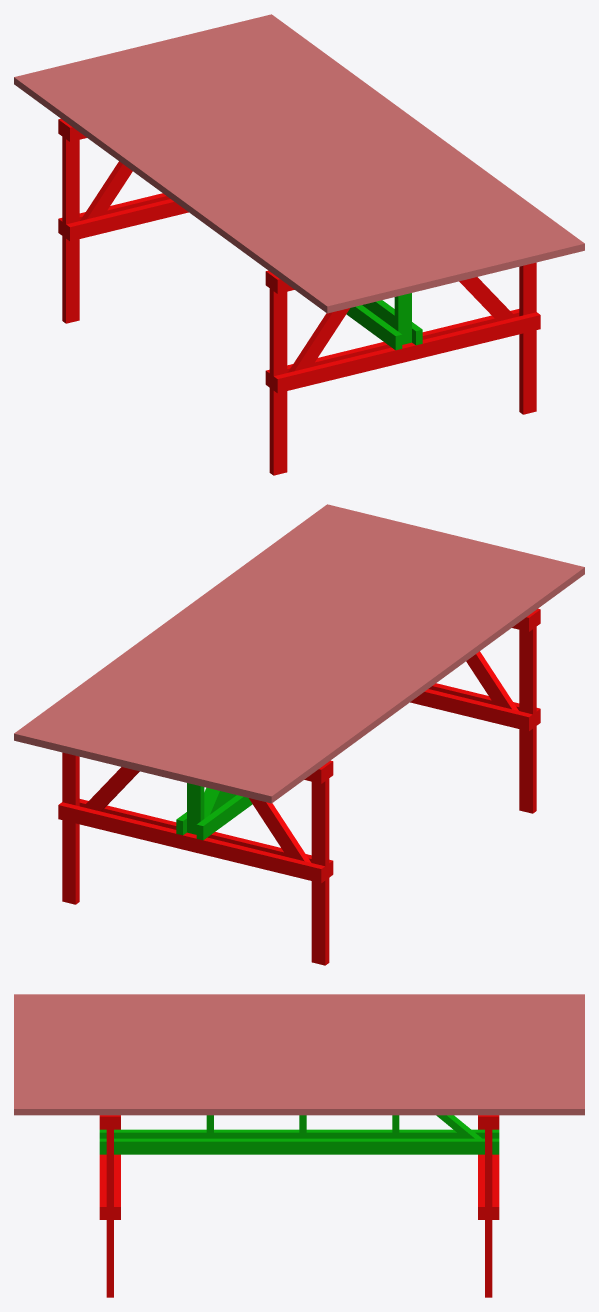
The model's file is result.glb.
3 renders of one model, top to bottom at view 1: azimuth 30°, elevation 25°; view 2: azimuth 150°, elevation 25°; view 3: azimuth 270°, elevation 25°, orthographic. The views are drawn at different scales.
Parts seen in each view (by area): view 1: bbeebcdb-3f99-4f77-a2e8-787a77a91db6__Box, 0190b465-db83-48fe-b081-cd7dd6bc8129__sideH, 17f43c25-3e92-4c97-a3d7-34431800e50e__undefined, eb93753c-3666-424e-9c48-84b49d938c41__undefined, 9918e297-45bd-4d35-bc97-5c7b0de80641__undefined, 8f650e66-f8c0-4959-ba8b-08832bbb4f13__undefined, 80cd1f90-98d9-486e-9dc5-4ccc9a084816__undefined, be0ad522-ab4a-45b4-905d-daea3207aa7a__undefined, 72e2a881-255c-4b75-9339-fb54a68d081b__undefined, 5dd81414-1a7c-413a-a173-5de8c82a652f__undefined, 8de55c55-ea86-44e3-8557-110cdc30ec31__undefined, 3e68c703-418c-4df8-b561-d40683dcc5c5__undefined (+20 smaller); view 2: bbeebcdb-3f99-4f77-a2e8-787a77a91db6__Box, 97f69e78-cade-4e16-83b8-556e15c2c198__undefined, 17f43c25-3e92-4c97-a3d7-34431800e50e__undefined, eb93753c-3666-424e-9c48-84b49d938c41__undefined, 9918e297-45bd-4d35-bc97-5c7b0de80641__undefined, 8f650e66-f8c0-4959-ba8b-08832bbb4f13__undefined, 80cd1f90-98d9-486e-9dc5-4ccc9a084816__undefined, be0ad522-ab4a-45b4-905d-daea3207aa7a__undefined, 72e2a881-255c-4b75-9339-fb54a68d081b__undefined, 5dd81414-1a7c-413a-a173-5de8c82a652f__undefined, 8de55c55-ea86-44e3-8557-110cdc30ec31__undefined, 3e68c703-418c-4df8-b561-d40683dcc5c5__undefined (+19 smaller); view 3: 8de55c55-ea86-44e3-8557-110cdc30ec31__undefined, 4a3bb054-5768-4474-8617-3f6093ff9265__strutH, bbeebcdb-3f99-4f77-a2e8-787a77a91db6__Box, eb93753c-3666-424e-9c48-84b49d938c41__undefined, be0ad522-ab4a-45b4-905d-daea3207aa7a__undefined, 5dd81414-1a7c-413a-a173-5de8c82a652f__undefined, 4d290f22-6d22-46f4-8384-eaff4370294b__undefined, deeef4f9-0dc2-4d78-b79e-73e6e580fd66__undefined, 8f650e66-f8c0-4959-ba8b-08832bbb4f13__undefined, ecaa860b-66aa-4944-8539-1d36b5fe38af__undefined, 9918e297-45bd-4d35-bc97-5c7b0de80641__undefined, 3e68c703-418c-4df8-b561-d40683dcc5c5__undefined (+16 smaller).
Part boxes in pixels (x1,y1,x2,y2): bbeebcdb-3f99-4f77-a2e8-787a77a91db6__Box: (14, 74, 340, 313); 0190b465-db83-48fe-b081-cd7dd6bc8129__sideH: (273, 312, 540, 393); 17f43c25-3e92-4c97-a3d7-34431800e50e__undefined: (218, 24, 544, 263); eb93753c-3666-424e-9c48-84b49d938c41__undefined: (28, 70, 354, 309); 9918e297-45bd-4d35-bc97-5c7b0de80641__undefined: (123, 47, 449, 286); 8f650e66-f8c0-4959-ba8b-08832bbb4f13__undefined: (96, 54, 422, 293); 80cd1f90-98d9-486e-9dc5-4ccc9a084816__undefined: (190, 31, 517, 270); be0ad522-ab4a-45b4-905d-daea3207aa7a__undefined: (41, 67, 367, 306); 72e2a881-255c-4b75-9339-fb54a68d081b__undefined: (204, 27, 530, 266); 5dd81414-1a7c-413a-a173-5de8c82a652f__undefined: (55, 64, 381, 303); 8de55c55-ea86-44e3-8557-110cdc30ec31__undefined: (258, 14, 584, 253); 3e68c703-418c-4df8-b561-d40683dcc5c5__undefined: (136, 44, 462, 283); bbeebcdb-3f99-4f77-a2e8-787a77a91db6__Box: (258, 564, 584, 803); 97f69e78-cade-4e16-83b8-556e15c2c198__undefined: (58, 802, 325, 883); 17f43c25-3e92-4c97-a3d7-34431800e50e__undefined: (54, 514, 380, 753); eb93753c-3666-424e-9c48-84b49d938c41__undefined: (244, 560, 570, 799); 9918e297-45bd-4d35-bc97-5c7b0de80641__undefined: (149, 537, 475, 776); 8f650e66-f8c0-4959-ba8b-08832bbb4f13__undefined: (176, 544, 502, 783); 80cd1f90-98d9-486e-9dc5-4ccc9a084816__undefined: (81, 521, 408, 760); be0ad522-ab4a-45b4-905d-daea3207aa7a__undefined: (231, 557, 557, 796); 72e2a881-255c-4b75-9339-fb54a68d081b__undefined: (68, 517, 394, 756); 5dd81414-1a7c-413a-a173-5de8c82a652f__undefined: (217, 554, 543, 793); 8de55c55-ea86-44e3-8557-110cdc30ec31__undefined: (14, 504, 340, 743); 3e68c703-418c-4df8-b561-d40683dcc5c5__undefined: (136, 534, 462, 773); 8de55c55-ea86-44e3-8557-110cdc30ec31__undefined: (14, 1103, 584, 1115); 4a3bb054-5768-4474-8617-3f6093ff9265__strutH: (99, 1138, 499, 1154); bbeebcdb-3f99-4f77-a2e8-787a77a91db6__Box: (14, 994, 584, 1000); eb93753c-3666-424e-9c48-84b49d938c41__undefined: (14, 1000, 584, 1006); be0ad522-ab4a-45b4-905d-daea3207aa7a__undefined: (14, 1006, 584, 1012); 5dd81414-1a7c-413a-a173-5de8c82a652f__undefined: (14, 1012, 584, 1018); 4d290f22-6d22-46f4-8384-eaff4370294b__undefined: (14, 1018, 584, 1024); deeef4f9-0dc2-4d78-b79e-73e6e580fd66__undefined: (14, 1024, 584, 1030); 8f650e66-f8c0-4959-ba8b-08832bbb4f13__undefined: (14, 1030, 584, 1036); ecaa860b-66aa-4944-8539-1d36b5fe38af__undefined: (14, 1036, 584, 1042); 9918e297-45bd-4d35-bc97-5c7b0de80641__undefined: (14, 1042, 584, 1048); 3e68c703-418c-4df8-b561-d40683dcc5c5__undefined: (14, 1048, 584, 1054).
Size of the model in its own units: 970 by 725 by 2000.
